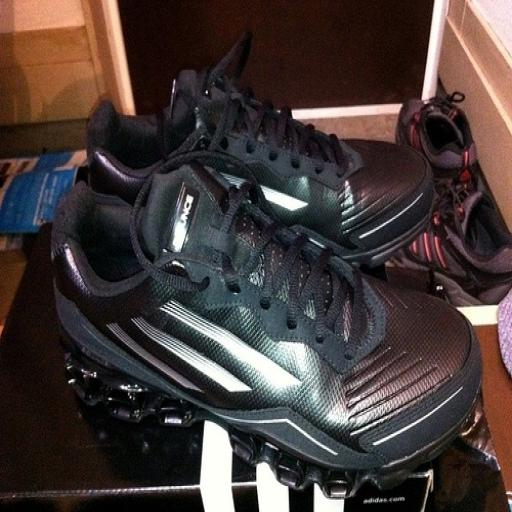shoe: (51, 161, 481, 497), (87, 33, 434, 265), (387, 93, 512, 307), (387, 184, 512, 306), (395, 92, 477, 183)
